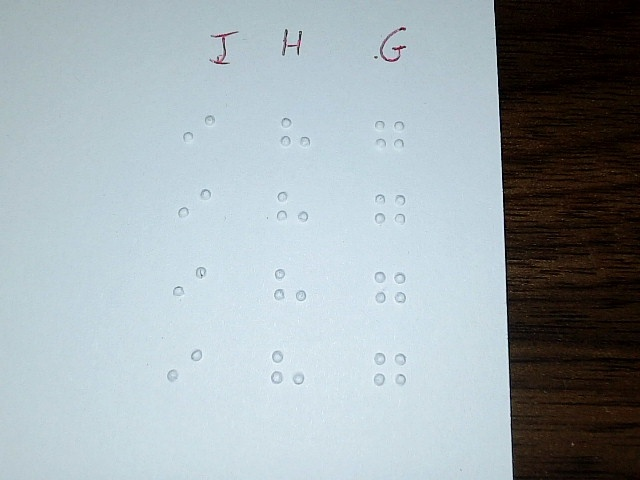G: (372, 109, 406, 165), (373, 184, 407, 240), (373, 261, 407, 317), (373, 342, 407, 398)
H: (278, 108, 312, 164), (276, 182, 310, 238), (273, 261, 307, 317), (271, 343, 305, 399)
I: (166, 340, 204, 395), (182, 104, 216, 160), (178, 180, 212, 236), (173, 255, 207, 311)
